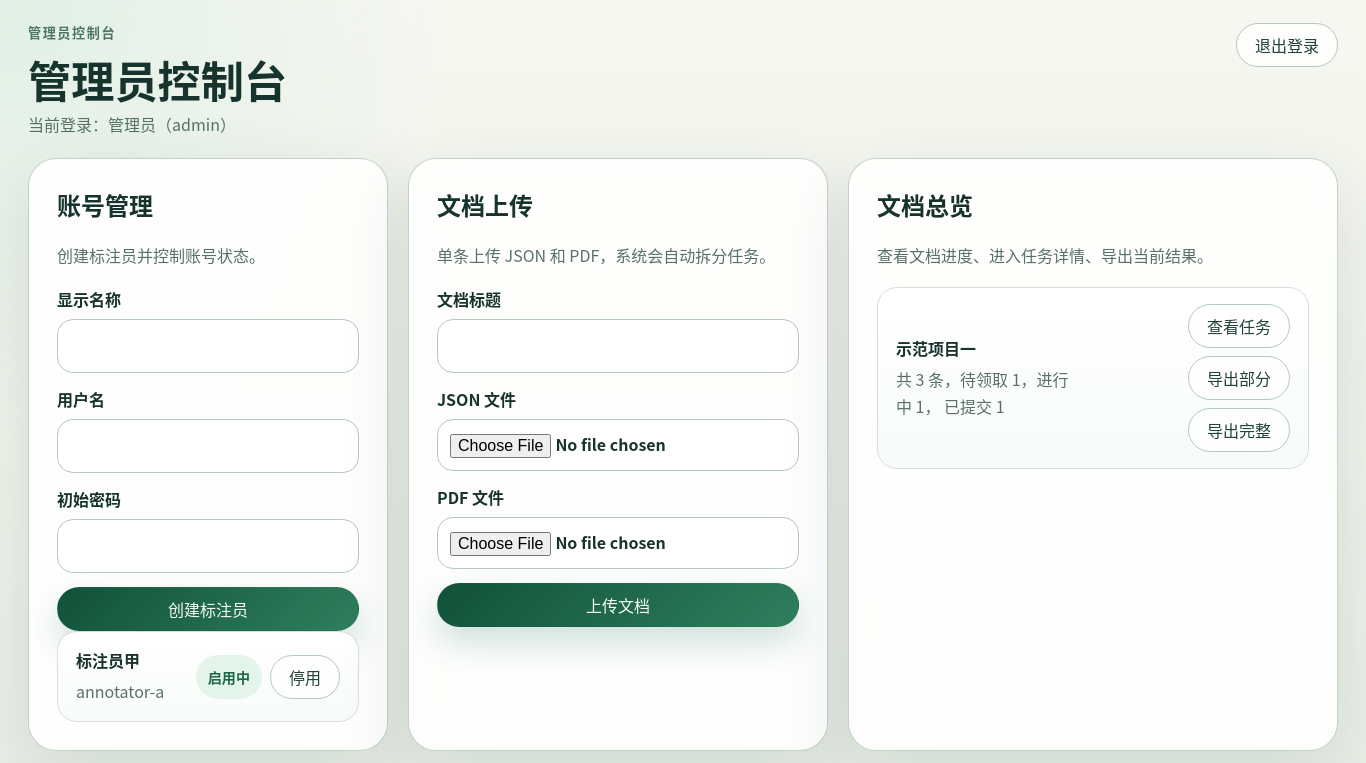
App › lets the admin inspect document tasks and history from the dashboard
Expected: the heading "管理员控制台" is shown, [28,54,287,105]
What coordinates should you click on to do the following:
click the button "查看任务"
I would click on:
 (1239, 326)
Its box is [1188,304,1290,348].
(page scrolled)
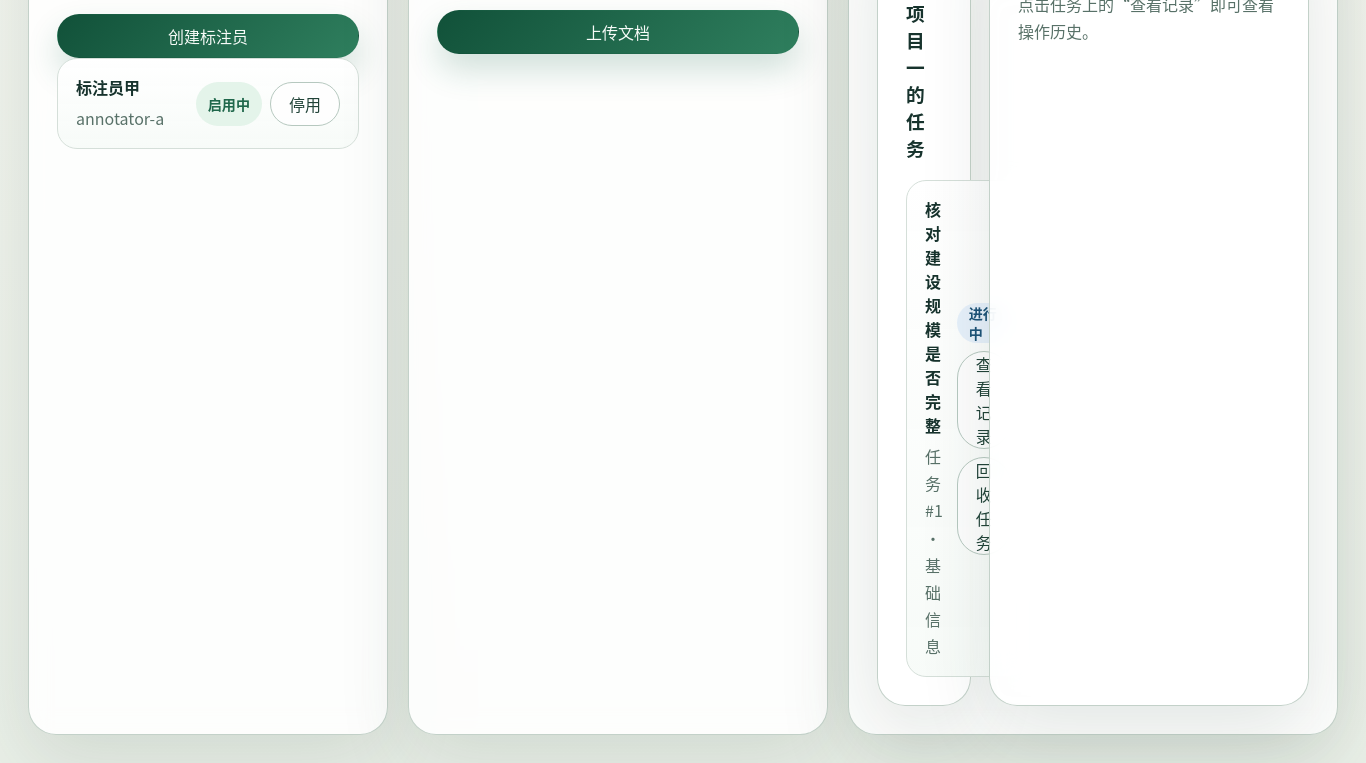
Expected: the text "核对建设规模是否完整" is shown, [925,197,943,437]
What coordinates should you click on to do the following:
click the button "查看记录"
I would click on:
 (984, 400)
Its box is [957,351,1011,449].
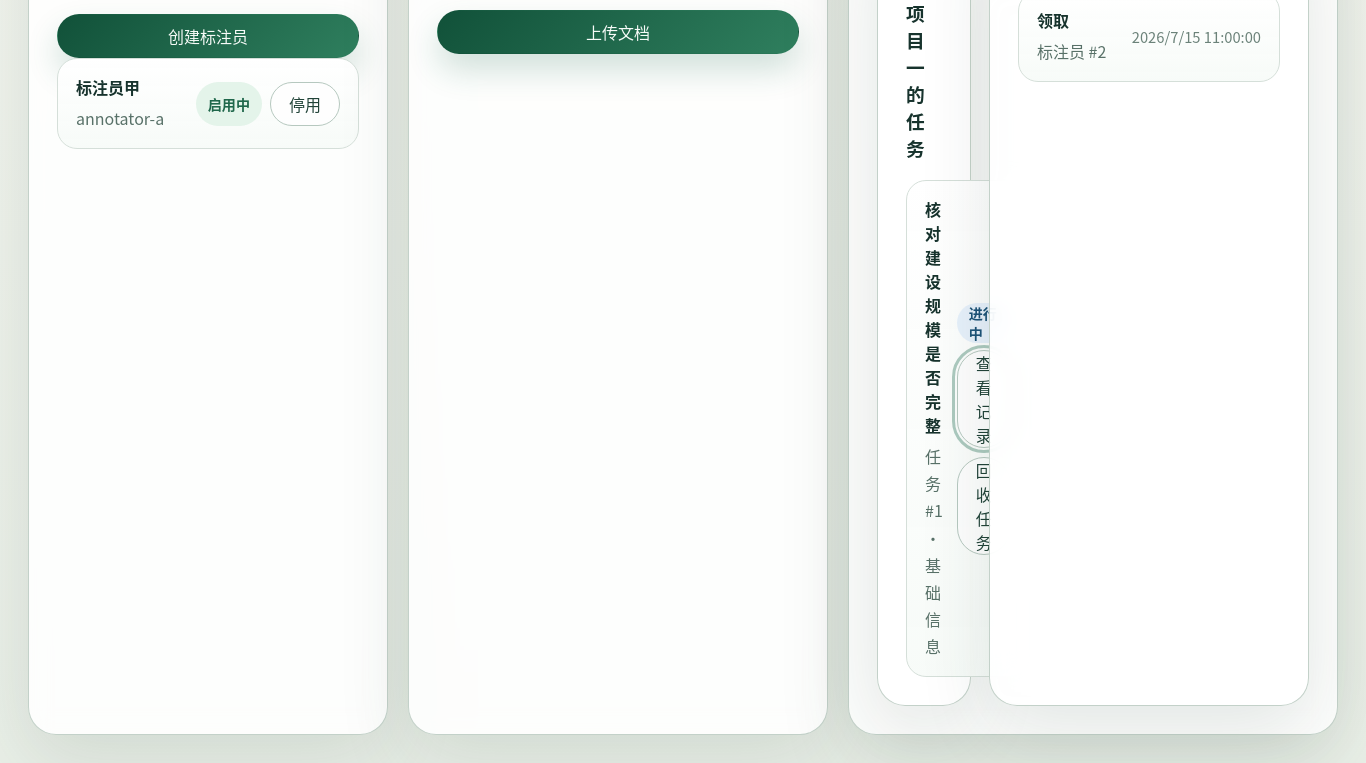
Expected: the text "领取" is shown, [1037,8,1069,32]
Expected: the text "标注员 #2" is shown, [1037,38,1106,65]
